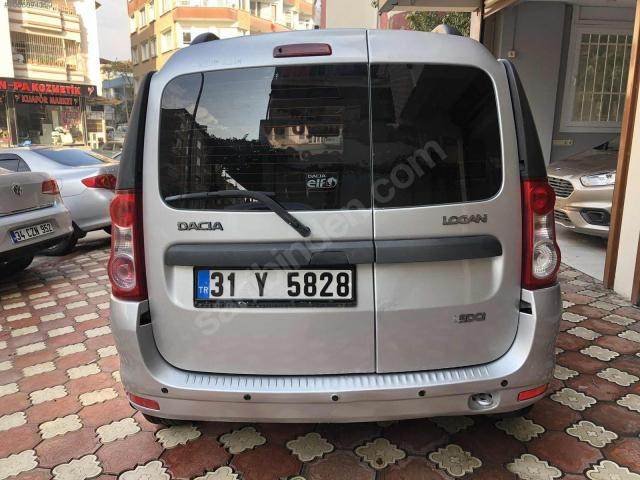plaka: (195, 269, 355, 303)
